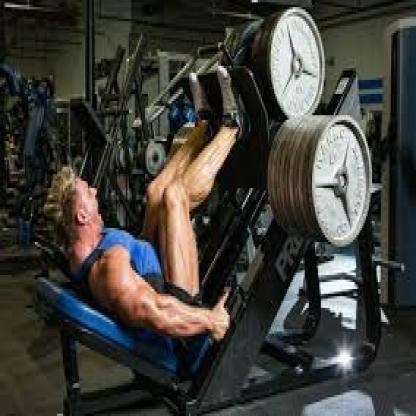leg press: (22, 8, 406, 416)
